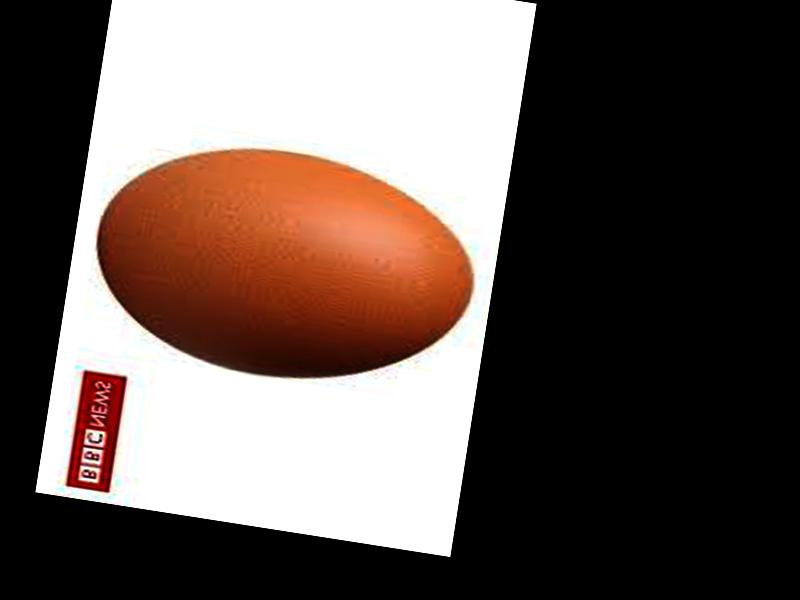Eggs: (83, 125, 485, 403)
